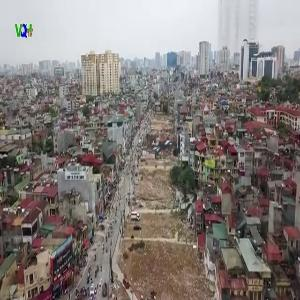drone: (133, 117, 198, 182)
